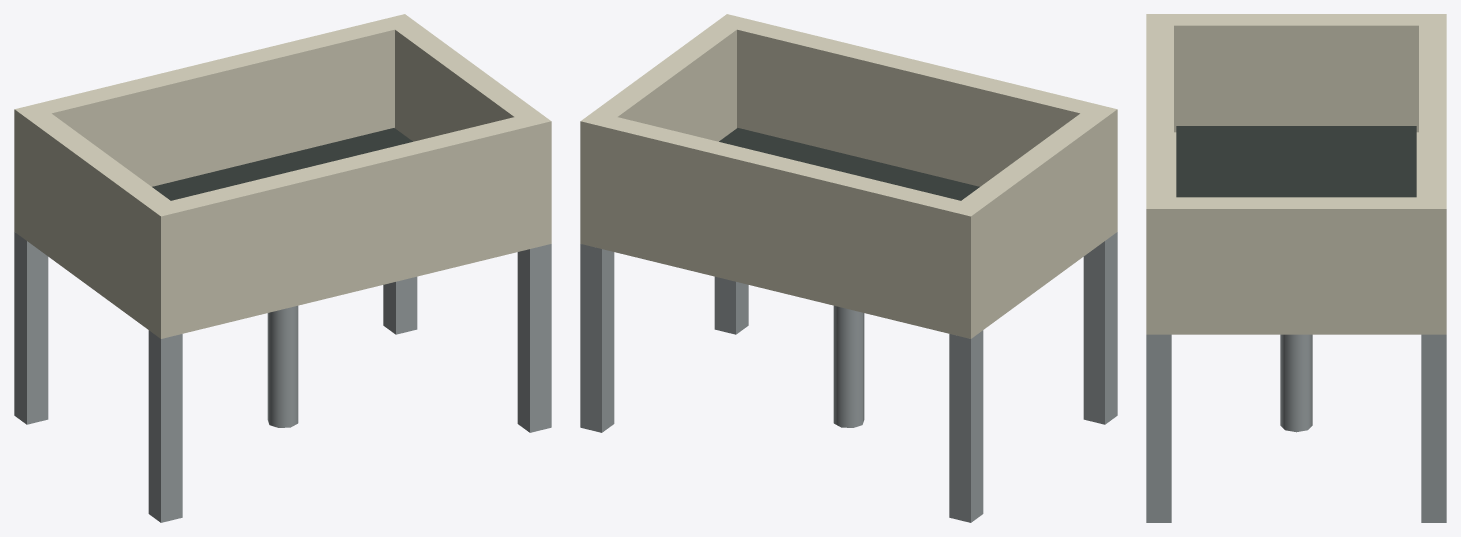
File: bunker-shelter-construction-utility-wash-tub-c2cb9d80__23354.glb
3 renders of one model, left to right at view 1: azimuth 30°, elevation 25°; view 2: azimuth 150°, elevation 25°; view 3: azimuth 270°, elevation 25°, orthographic. The views are drawn at different scales.
Parts seen in each view (by area): view 1: utility-wash-tub; view 2: utility-wash-tub; view 3: utility-wash-tub.
Part boxes in pixels (left/top/right/bottom): utility-wash-tub: left=14, top=14, right=551, bottom=522; utility-wash-tub: left=580, top=14, right=1117, bottom=522; utility-wash-tub: left=1146, top=14, right=1446, bottom=522.
Size of the model in its own units: 1 by 0.75 by 0.65.
